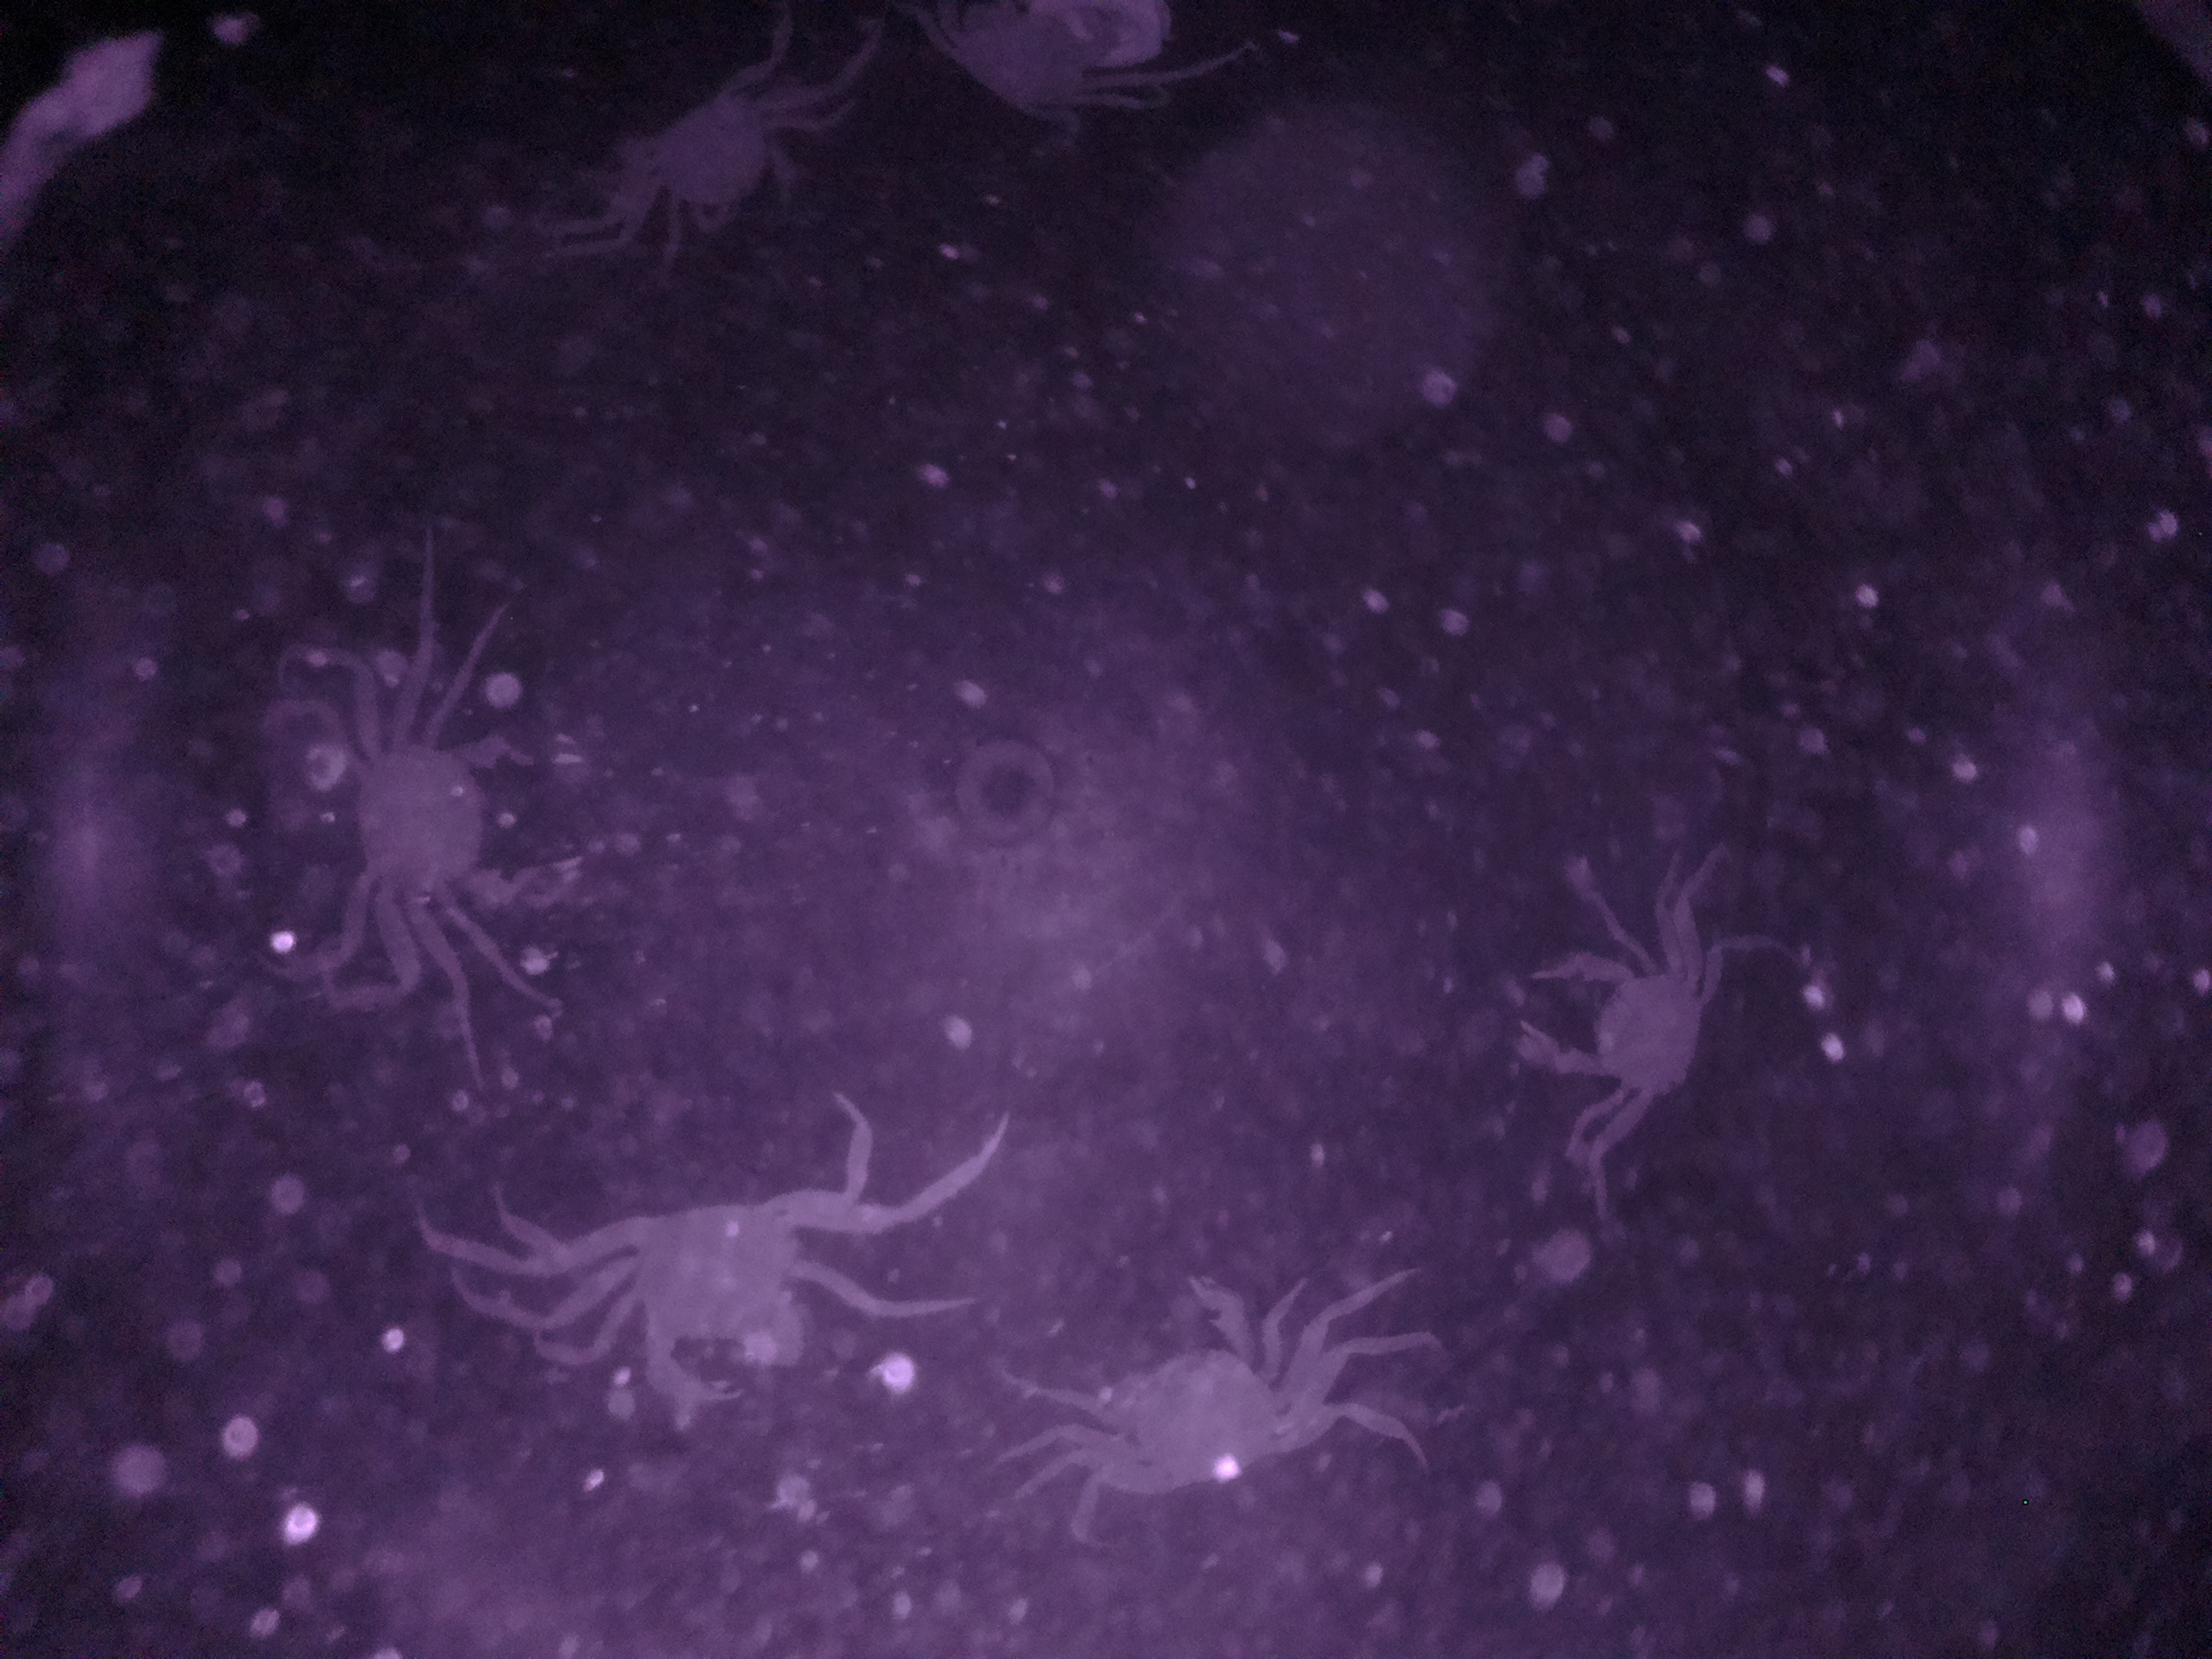Crab: (1045, 1265, 1324, 1532), (578, 1192, 857, 1443), (298, 713, 608, 924), (1482, 910, 1735, 1119), (603, 70, 833, 249)
